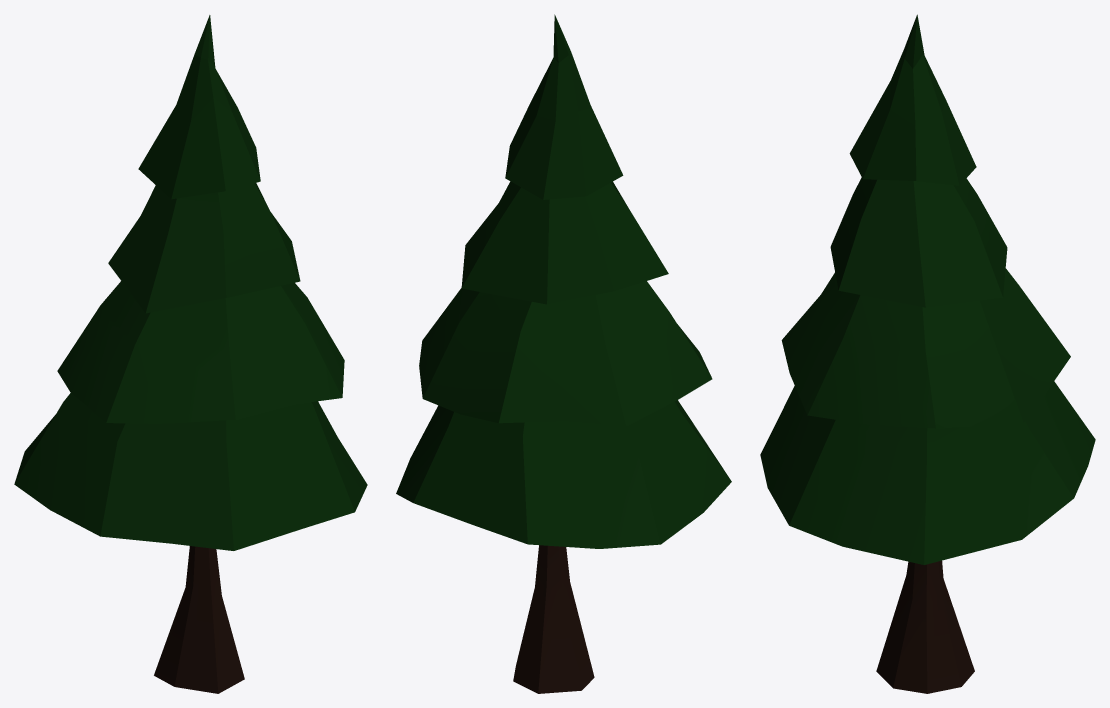
File: pino_3.FBX
The picture shows the model from 3 angles, left to right: view 1: azimuth 30°, elevation 25°; view 2: azimuth 150°, elevation 25°; view 3: azimuth 270°, elevation 25°; orthographic projection.
Visible parts, largest first — view 1: pCylinder2; view 2: pCylinder2; view 3: pCylinder2.
Part boxes in pixels (bbox=[...]): pCylinder2: bbox=[14, 15, 367, 693]; pCylinder2: bbox=[396, 14, 731, 693]; pCylinder2: bbox=[760, 14, 1095, 693].
Size of the model in its own units: 2.97 by 6.46 by 2.89.
